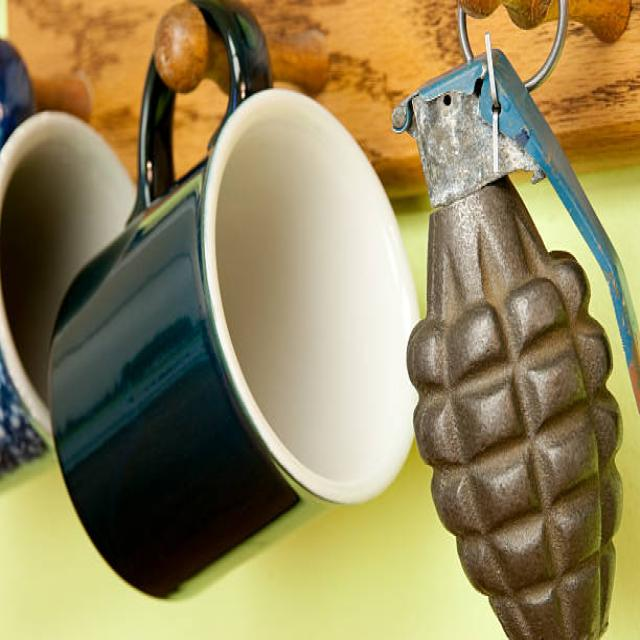grenade: (391, 1, 640, 640)
